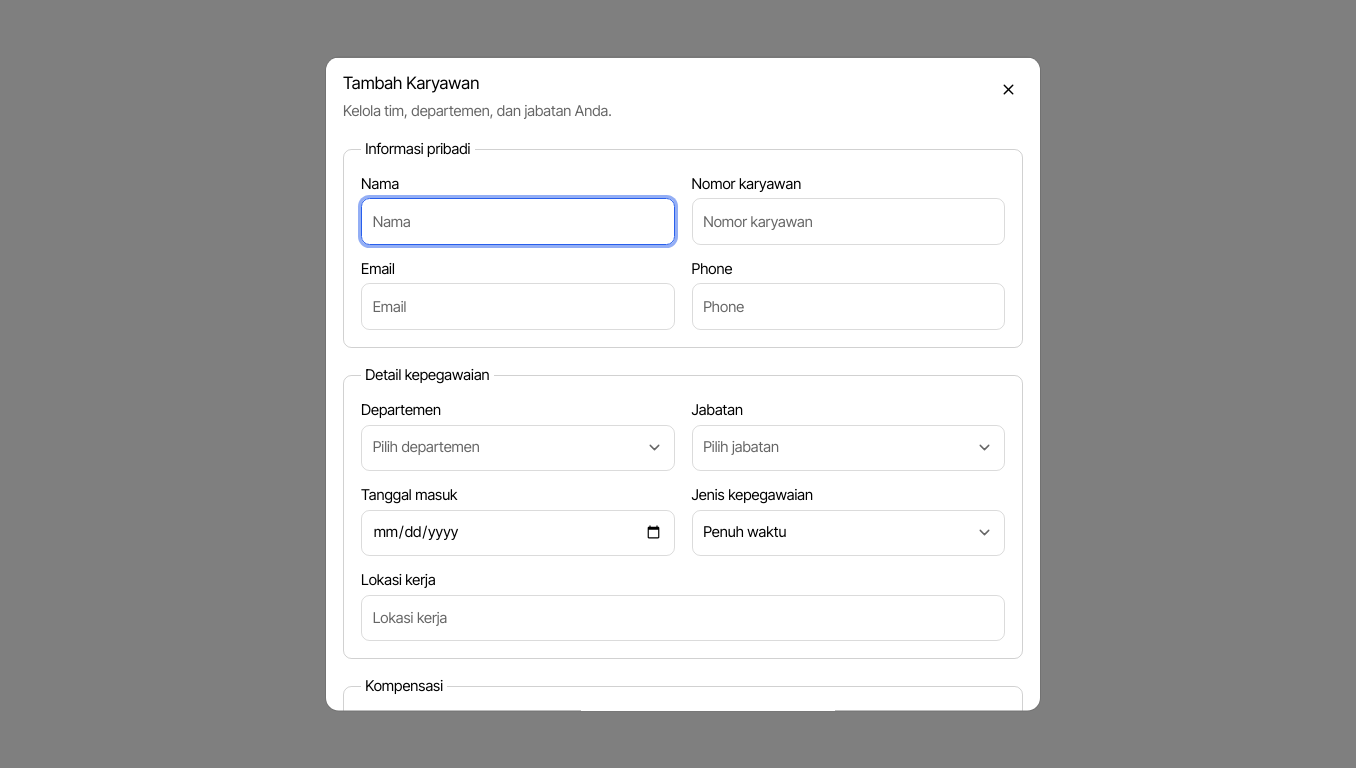
Scenario: EmployeeFormDialog branches3 › submits the create form
Expected: the heading "Tambah Karyawan" is shown, [343, 73, 479, 93]
Type "Budi Santoso" into the field with placeholder "Nama" at coordinates (518, 221), box [361, 198, 674, 245]
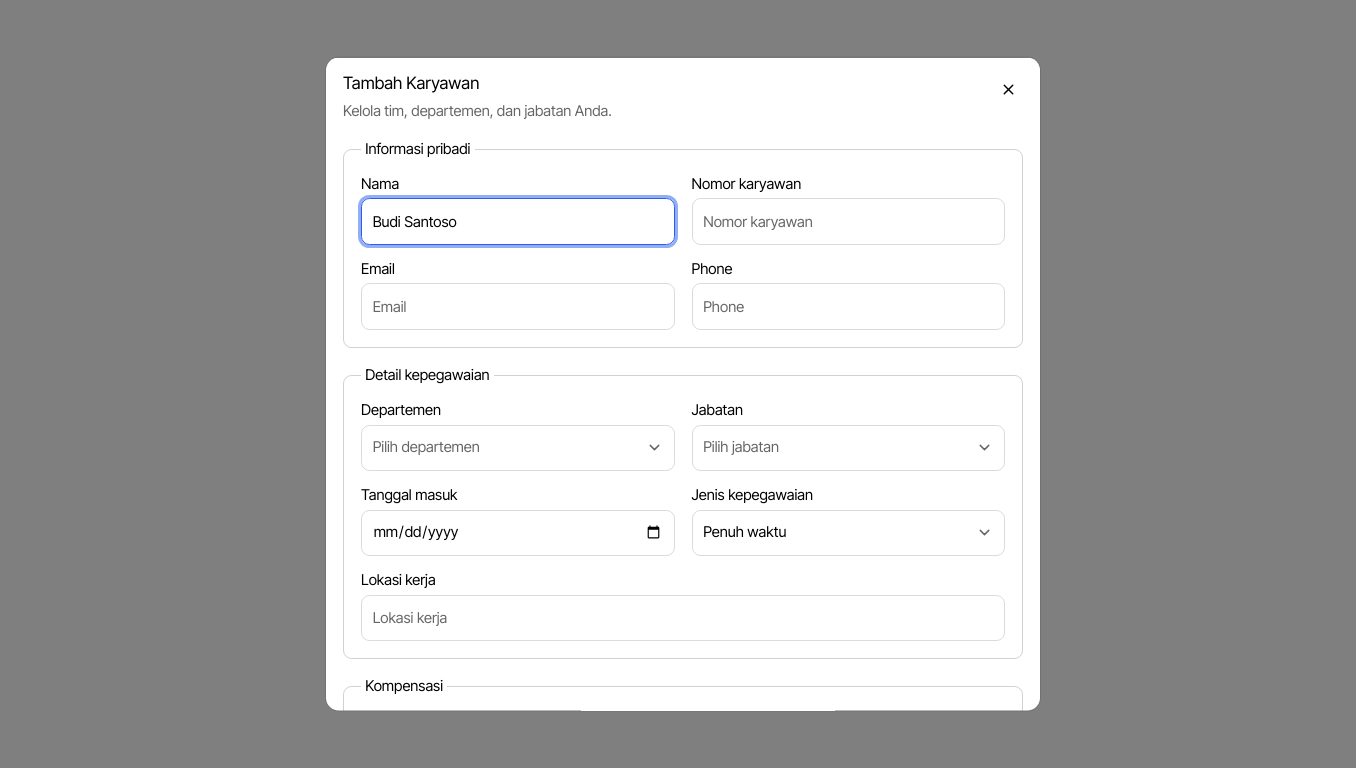
Type "EMP-0099" into the field with placeholder "Nomor karyawan" at coordinates (848, 221), box [692, 198, 1005, 245]
(page scrolled)
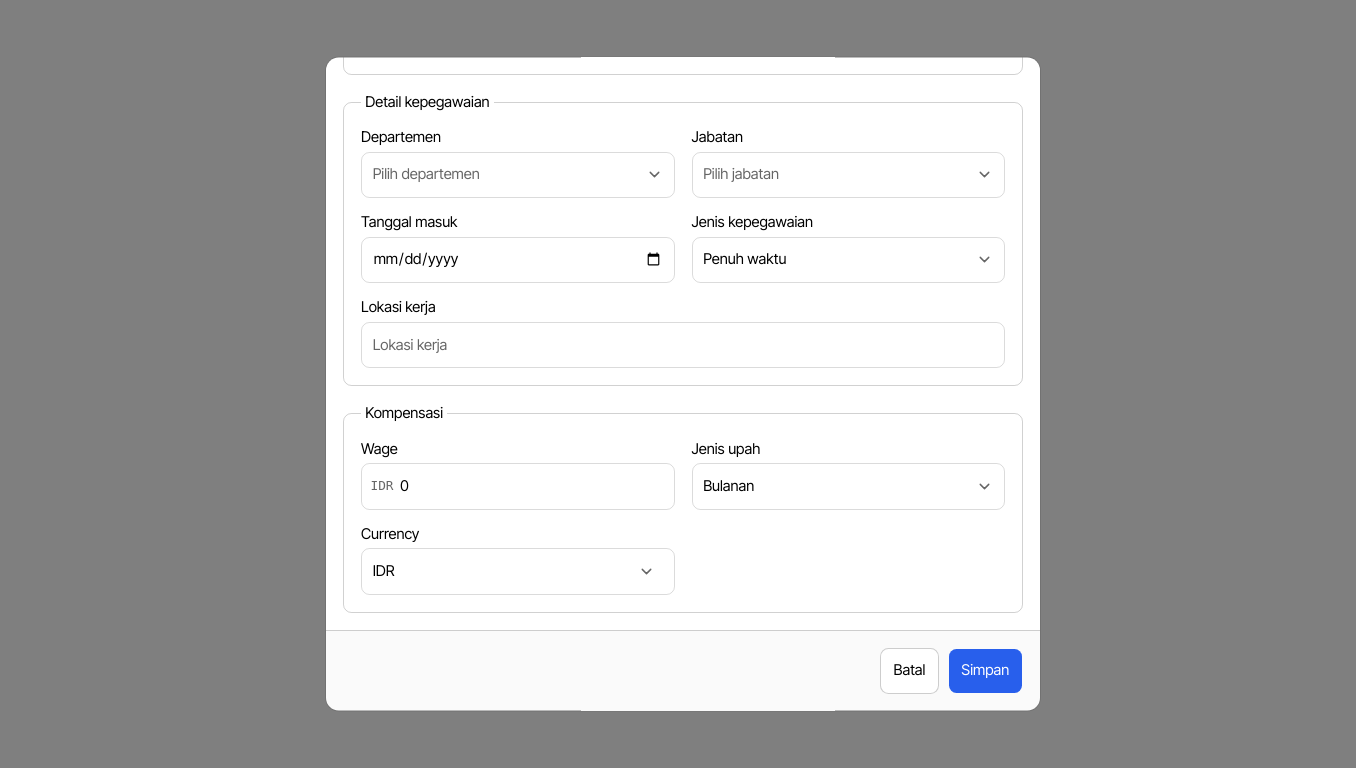
Click the button "Simpan" at coordinates (985, 670), box [948, 647, 1023, 694]
(page scrolled)
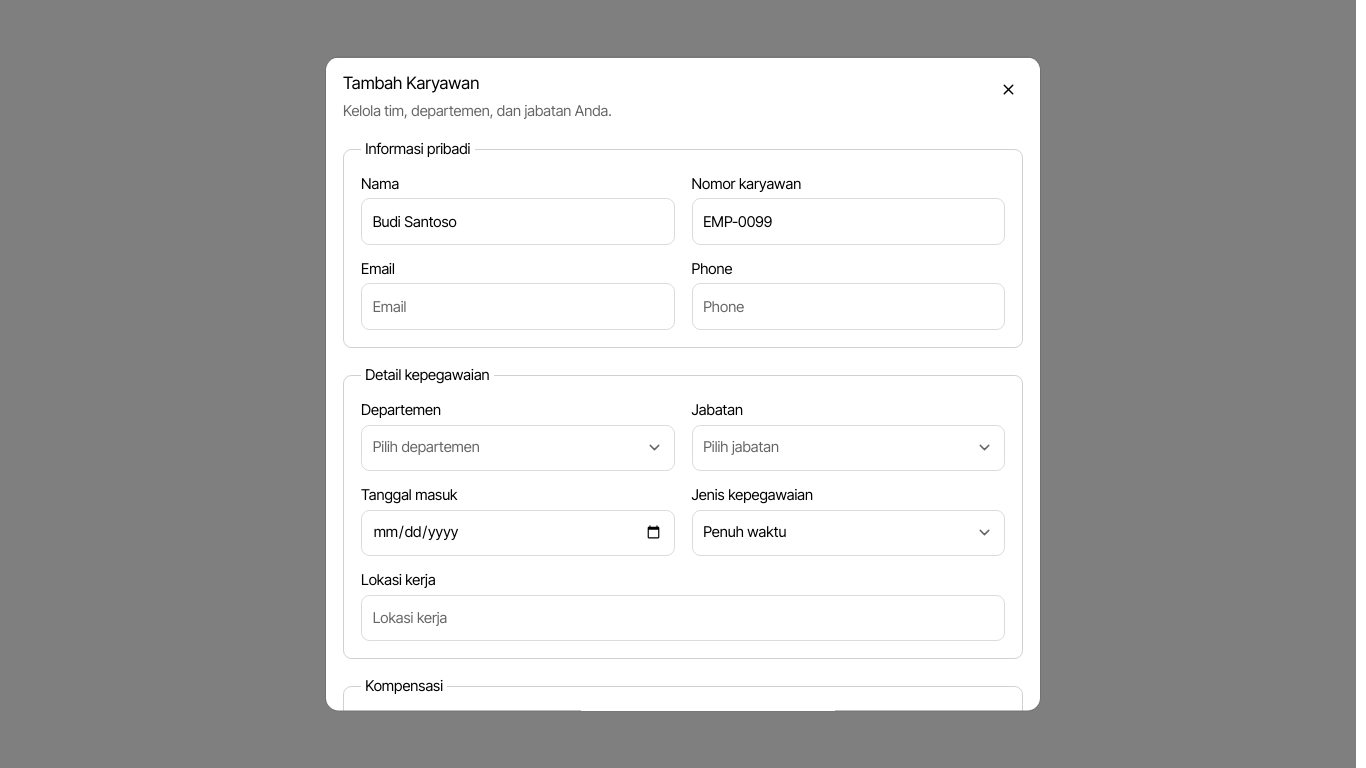
Expected: the heading "Tambah Karyawan" is shown, [343, 73, 479, 93]
